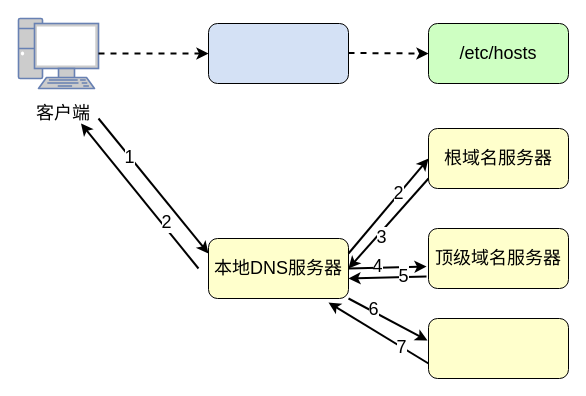
The diagram is 586 pixels wide and 396 high, and some of its shapes have lost their labels. Each missing label, with the centre of its shape:
本地DNS缓存: pixel 278 53
权威域名服务器: pixel 498 348
